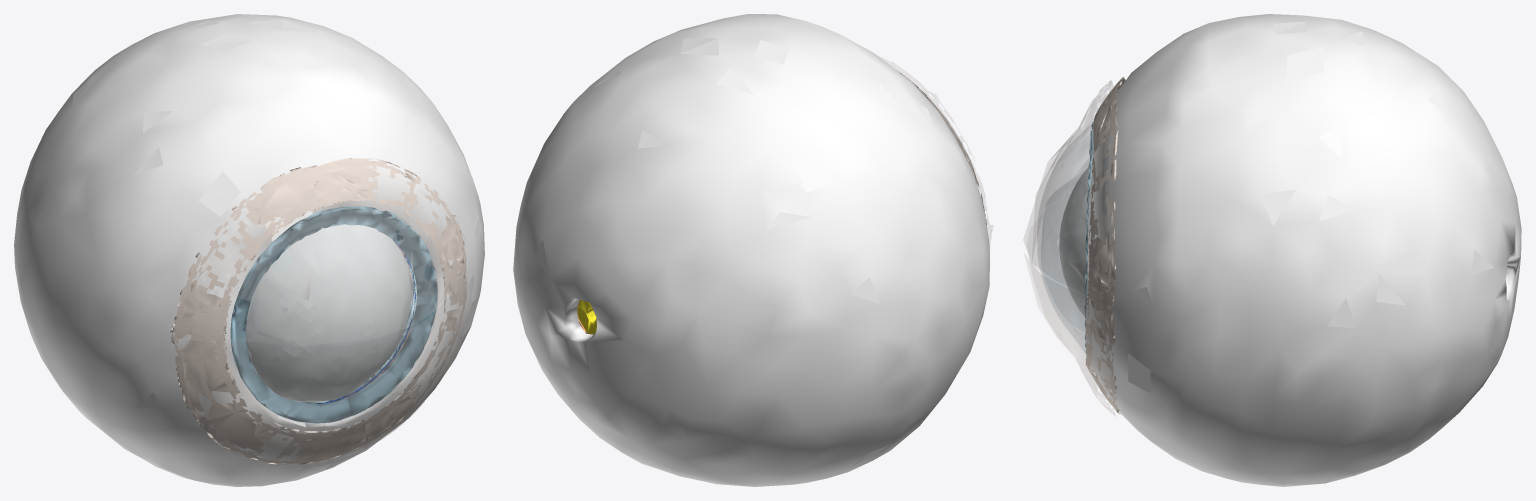
The model's file is 3d-vh-m-eye-r.glb.
3 views of the same model, side by side, from view 1: azimuth 30°, elevation 25°; view 2: azimuth 150°, elevation 25°; view 3: azimuth 270°, elevation 25° (orthographic).
Parts seen in each view (by area): view 1: VH_M_sclera_R, VH_M_cornea_R, VH_M_palpebral_conjunctiva_of_upper_eyelid_R, VH_M_palpebral_conjunctiva_of_lower_eyelid_R, VH_M_bulbar_conjunctiva_R, VH_M_aqueous_humor_R, VH_M_corneo_scleral_junction_R, VH_M_trabecular_meshwork_R; view 2: VH_M_sclera_R, VH_M_palpebral_conjunctiva_of_upper_eyelid_R; view 3: VH_M_sclera_R, VH_M_palpebral_conjunctiva_of_upper_eyelid_R, VH_M_cornea_R, VH_M_bulbar_conjunctiva_R, VH_M_palpebral_conjunctiva_of_lower_eyelid_R, VH_M_aqueous_humor_R, VH_M_corneo_scleral_junction_R.
Part boxes in pixels (x1=…): VH_M_sclera_R: x1=14, y1=14, x2=484, y2=486; VH_M_cornea_R: x1=232, y1=208, x2=437, y2=422; VH_M_palpebral_conjunctiva_of_upper_eyelid_R: x1=178, y1=162, x2=467, y2=345; VH_M_palpebral_conjunctiva_of_lower_eyelid_R: x1=176, y1=276, x2=473, y2=467; VH_M_bulbar_conjunctiva_R: x1=170, y1=158, x2=466, y2=464; VH_M_aqueous_humor_R: x1=245, y1=224, x2=411, y2=401; VH_M_corneo_scleral_junction_R: x1=230, y1=206, x2=437, y2=423; VH_M_trabecular_meshwork_R: x1=290, y1=242, x2=416, y2=403; VH_M_sclera_R: x1=513, y1=14, x2=989, y2=486; VH_M_palpebral_conjunctiva_of_upper_eyelid_R: x1=879, y1=56, x2=988, y2=222; VH_M_sclera_R: x1=1085, y1=14, x2=1521, y2=486; VH_M_palpebral_conjunctiva_of_upper_eyelid_R: x1=1023, y1=80, x2=1113, y2=307; VH_M_cornea_R: x1=1037, y1=125, x2=1092, y2=353; VH_M_bulbar_conjunctiva_R: x1=1085, y1=77, x2=1125, y2=414; VH_M_palpebral_conjunctiva_of_lower_eyelid_R: x1=1024, y1=226, x2=1115, y2=416; VH_M_aqueous_humor_R: x1=1059, y1=168, x2=1088, y2=316; VH_M_corneo_scleral_junction_R: x1=1084, y1=121, x2=1093, y2=352.
Size of the model in its own units: 0.0245 by 0.0245 by 0.0258.
